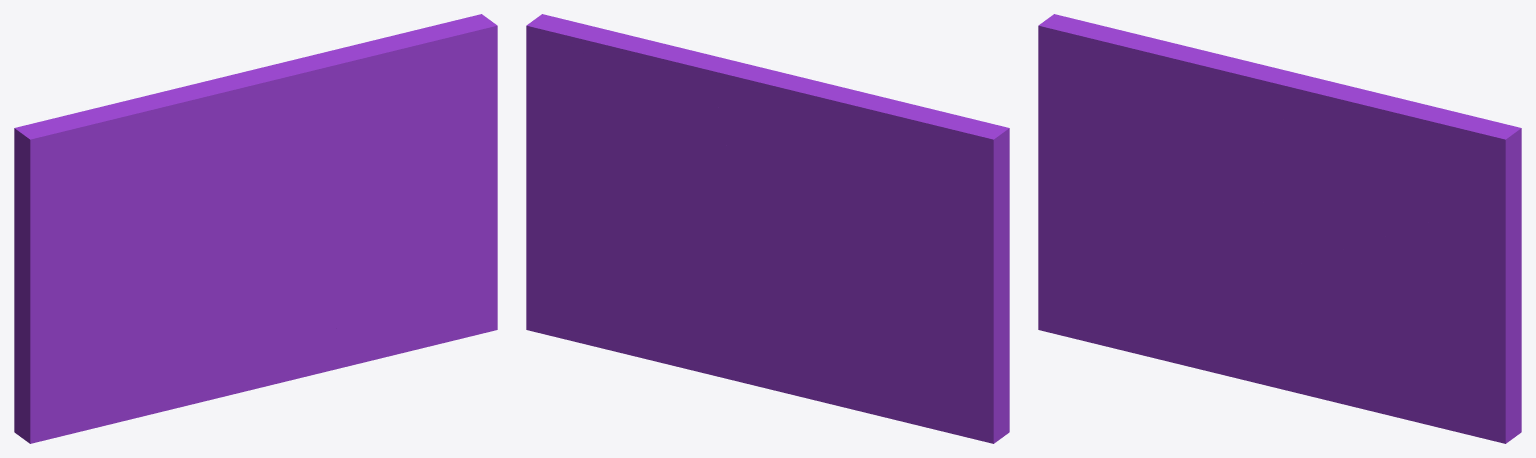
Rendered from Barrier_65_chunks.fbx.
3 renders of one model, left to right at view 1: azimuth 30°, elevation 25°; view 2: azimuth 150°, elevation 25°; view 3: azimuth 330°, elevation 25°, orthographic.
Visible parts, largest first — view 1: Barrier_65_0, Barrier_65_1, Barrier_65_2, Barrier_65_6, Barrier_65_4, Barrier_65_5, Barrier_65_3; view 2: Barrier_65_1, Barrier_65_0, Barrier_65_3, Barrier_65_6, Barrier_65_2, Barrier_65_4; view 3: Barrier_65_0, Barrier_65_1, Barrier_65_2, Barrier_65_6, Barrier_65_4, Barrier_65_5, Barrier_65_3.
Boxes of the visible parts, box(x1,y1,x2,y2) form: Barrier_65_0: box(14, 59, 296, 319); Barrier_65_1: box(288, 14, 497, 363); Barrier_65_2: box(249, 17, 497, 252); Barrier_65_6: box(194, 234, 358, 384); Barrier_65_4: box(14, 325, 271, 443); Barrier_65_5: box(25, 248, 214, 369); Barrier_65_3: box(14, 319, 81, 411); Barrier_65_1: box(526, 23, 766, 368); Barrier_65_0: box(710, 66, 1009, 331); Barrier_65_3: box(827, 267, 1009, 423); Barrier_65_6: box(686, 243, 828, 386); Barrier_65_2: box(530, 14, 756, 173); Barrier_65_4: box(760, 334, 1009, 443); Barrier_65_0: box(1038, 14, 1336, 227); Barrier_65_1: box(1296, 120, 1521, 443); Barrier_65_2: box(1257, 83, 1517, 264); Barrier_65_6: box(1203, 224, 1366, 409); Barrier_65_4: box(1038, 281, 1279, 388); Barrier_65_5: box(1038, 205, 1222, 291); Barrier_65_3: box(1038, 249, 1089, 284).
Size of the model in its own units: 462 by 288 by 27.2.
